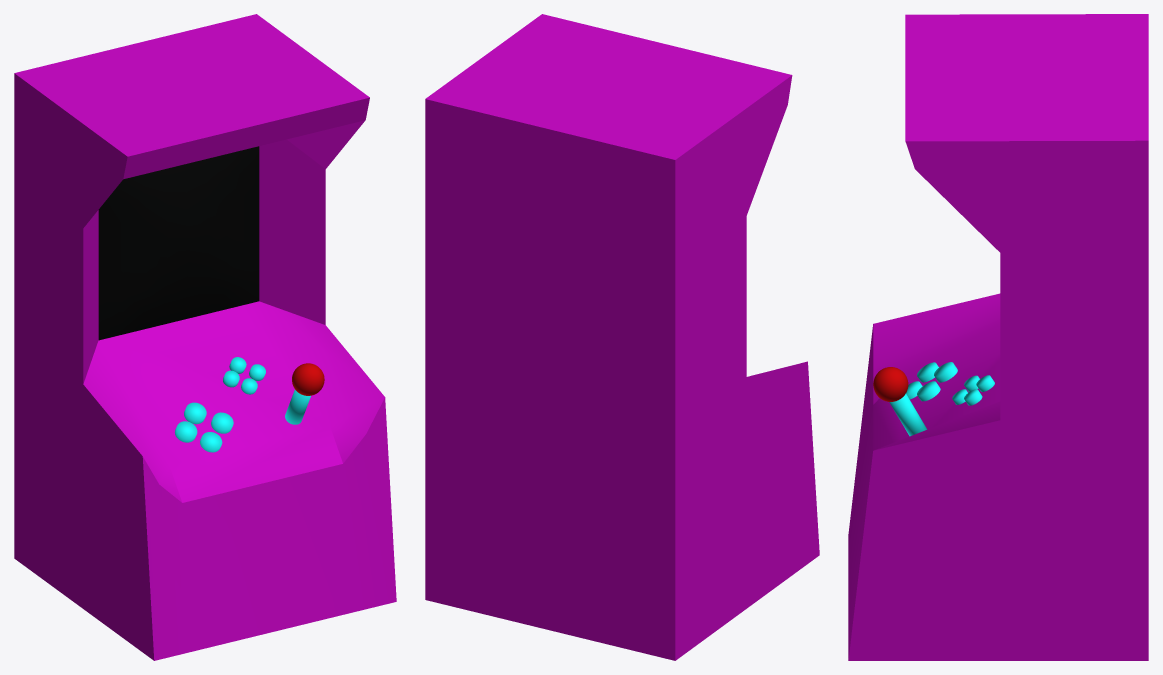
The model's file is arcade2.obj.
3 views of the same model, side by side, from view 1: azimuth 30°, elevation 25°; view 2: azimuth 150°, elevation 25°; view 3: azimuth 270°, elevation 25° (orthographic). The views are drawn at different scales.
Parts seen in each view (by area): view 1: Cube.001, Sphere.002; view 2: Cube.001; view 3: Cube.001, Sphere.002.
Boxes of the visible parts, box(x1,y1,x2,y2) form: Cube.001: box(14, 14, 396, 660); Sphere.002: box(175, 357, 324, 452); Cube.001: box(425, 14, 819, 660); Cube.001: box(848, 14, 1148, 660); Sphere.002: box(873, 362, 994, 436).
Size of the model in its own units: 1.05 by 2 by 1.05.
